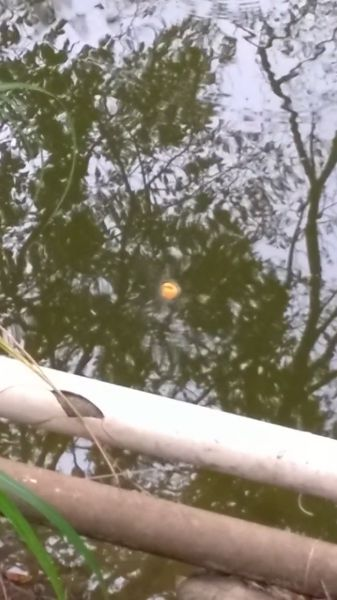eggs: (154, 277, 182, 302)
